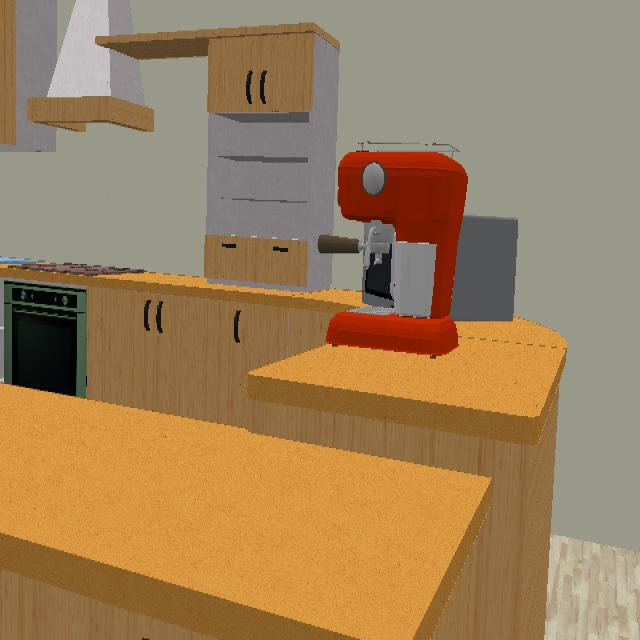cabinet: (205, 33, 339, 289), (89, 292, 329, 426)
countertop: (0, 385, 489, 638), (248, 320, 565, 442), (84, 273, 358, 311)
microwave: (450, 215, 518, 321), (362, 253, 394, 307)
oven: (0, 385, 491, 638), (249, 320, 565, 442), (4, 280, 86, 396)
shelf: (95, 23, 340, 60)
stove: (8, 263, 145, 276)
